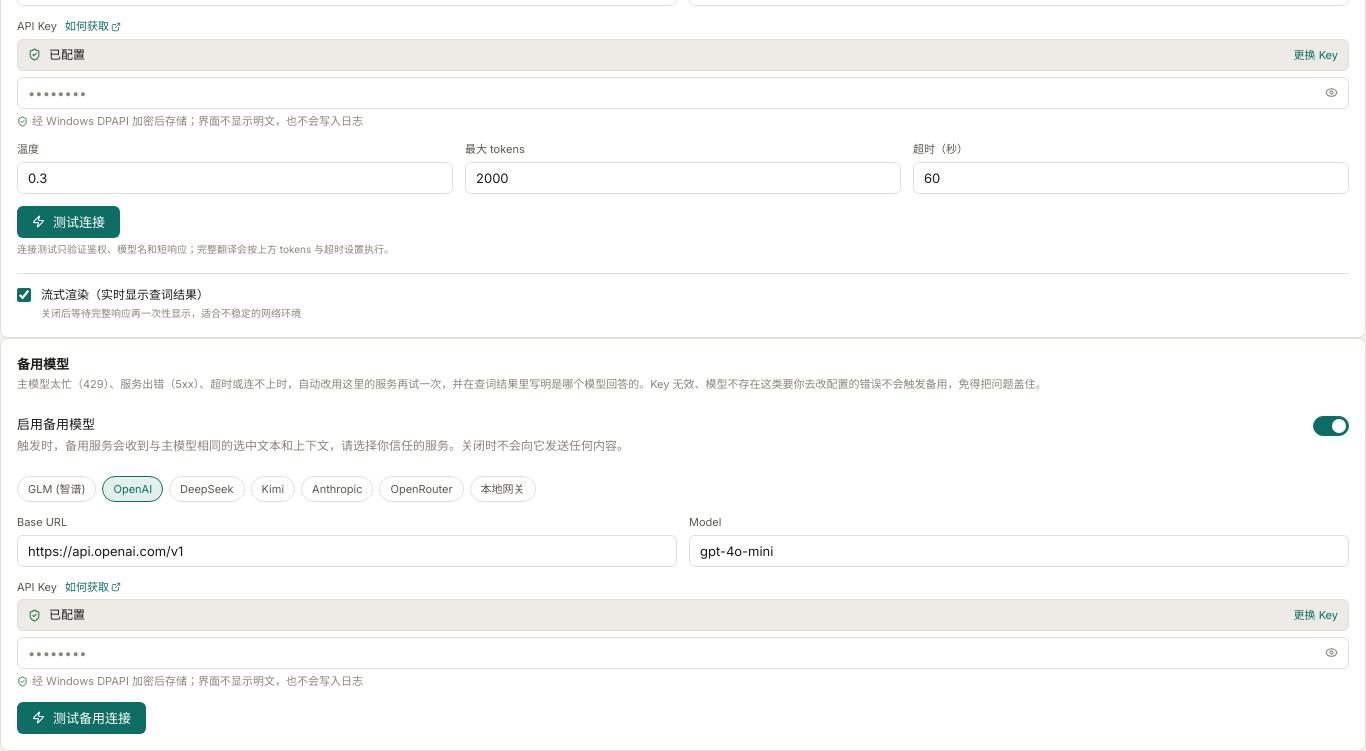
it: the main and the backup model service in the settings › the backup › tests the backup service as the backup, with its own settings
(page scrolled)
Expected: the text "已配置" below "启用备用模型" is shown, [49,607,85,622]
Click the button "测试备用连接": click(82, 718) [17,702,146,734]
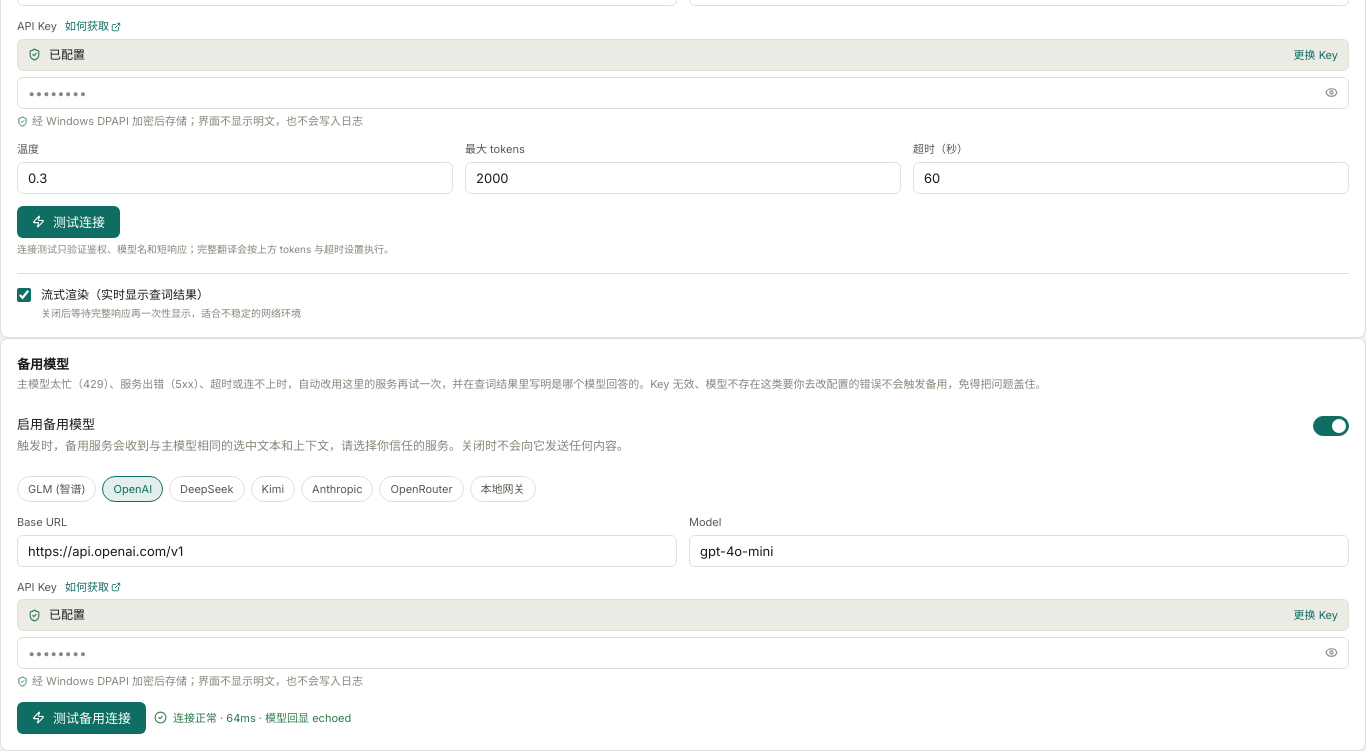
Result: the text "连接正常 · 64ms · 模型回显 echoed" is shown at [154,710,351,726]
